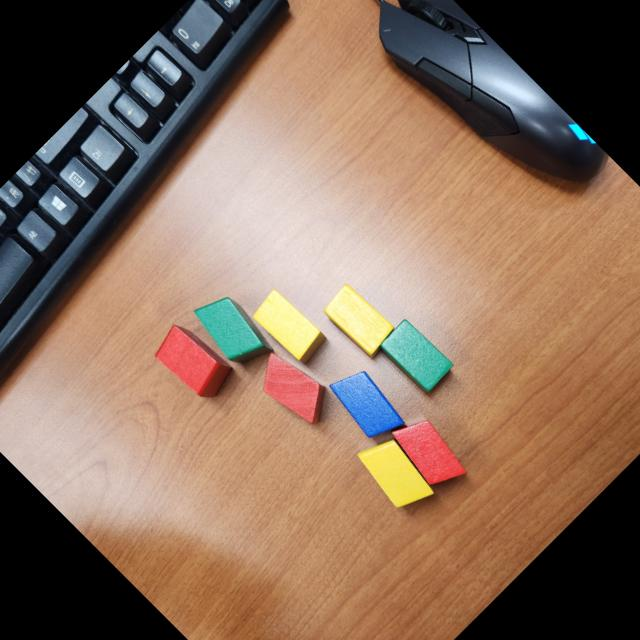blue: (320, 360, 410, 450)
green: (184, 282, 282, 380), (372, 313, 456, 397)
red: (246, 342, 340, 435), (381, 408, 474, 500), (146, 316, 237, 408)
yellow: (347, 427, 441, 521), (316, 278, 398, 360), (247, 284, 329, 366)
